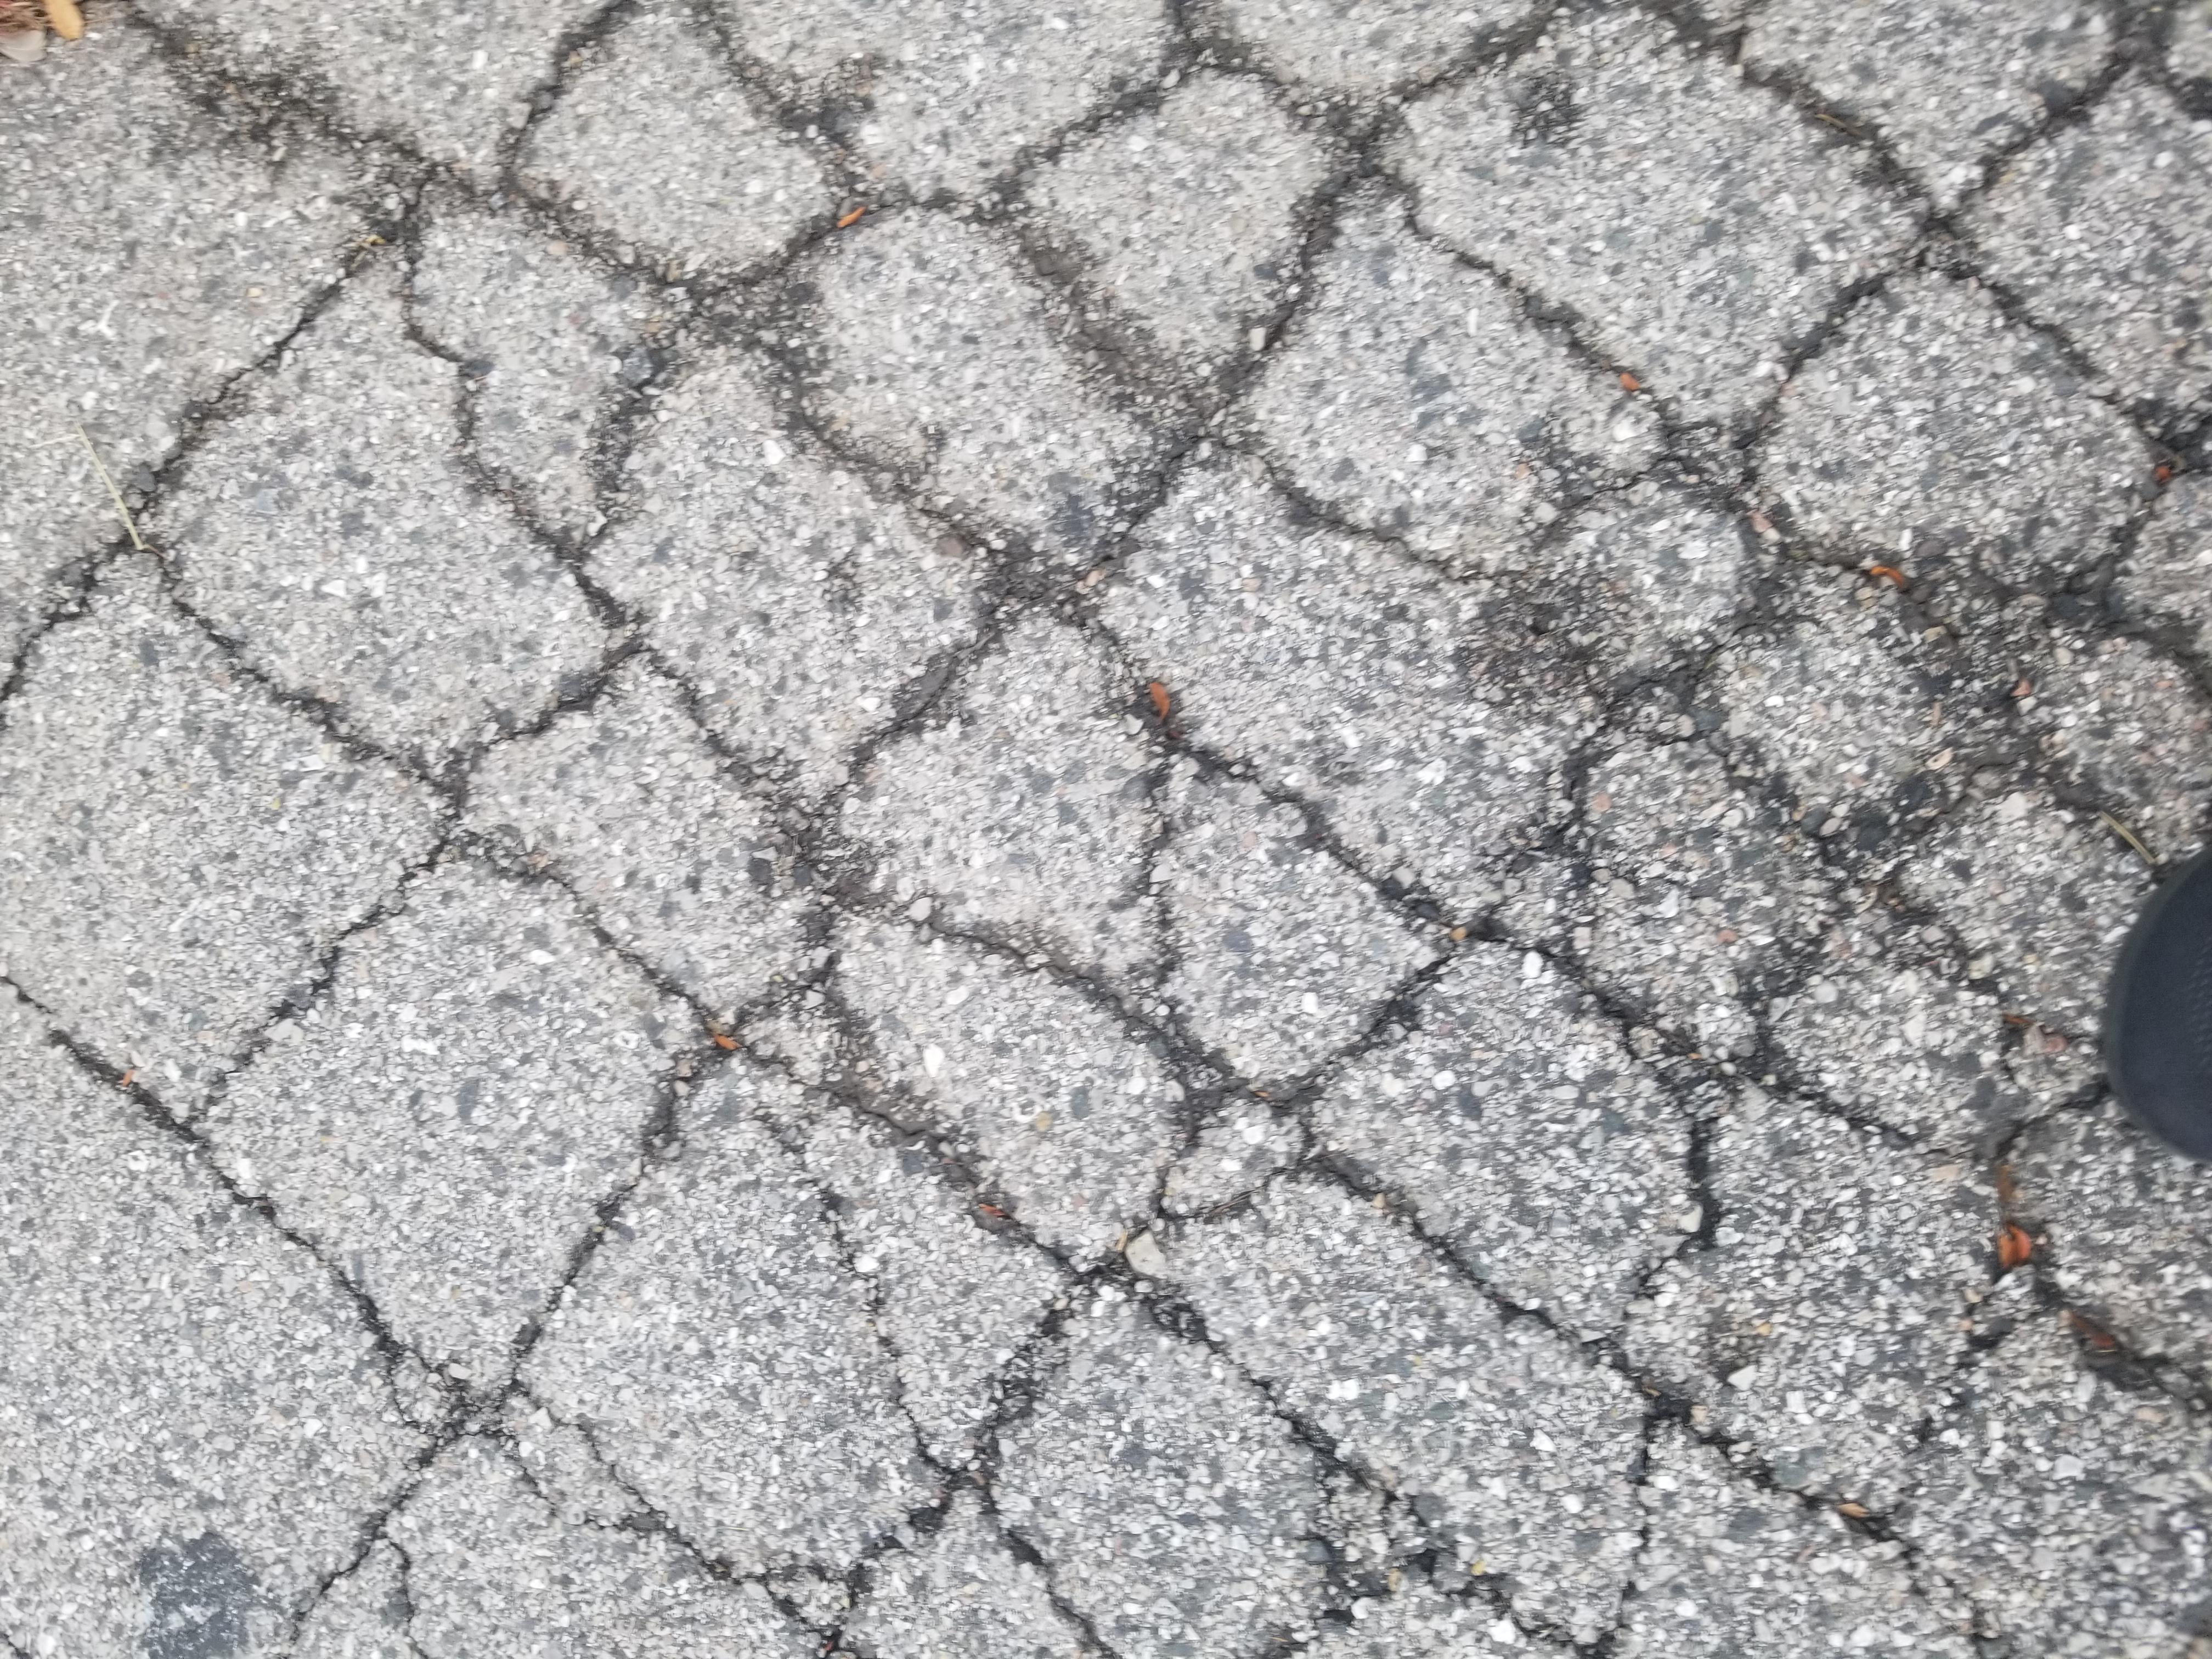alligator-crack: (66, 58, 2107, 1625)
